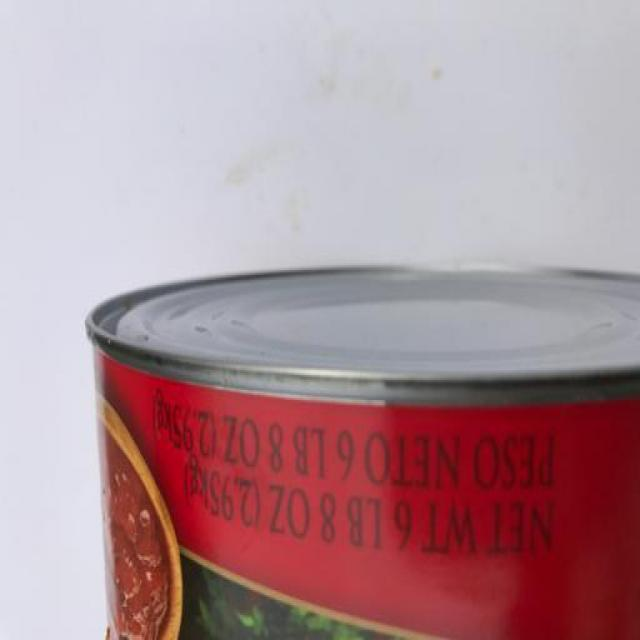metel: (58, 241, 640, 640)
